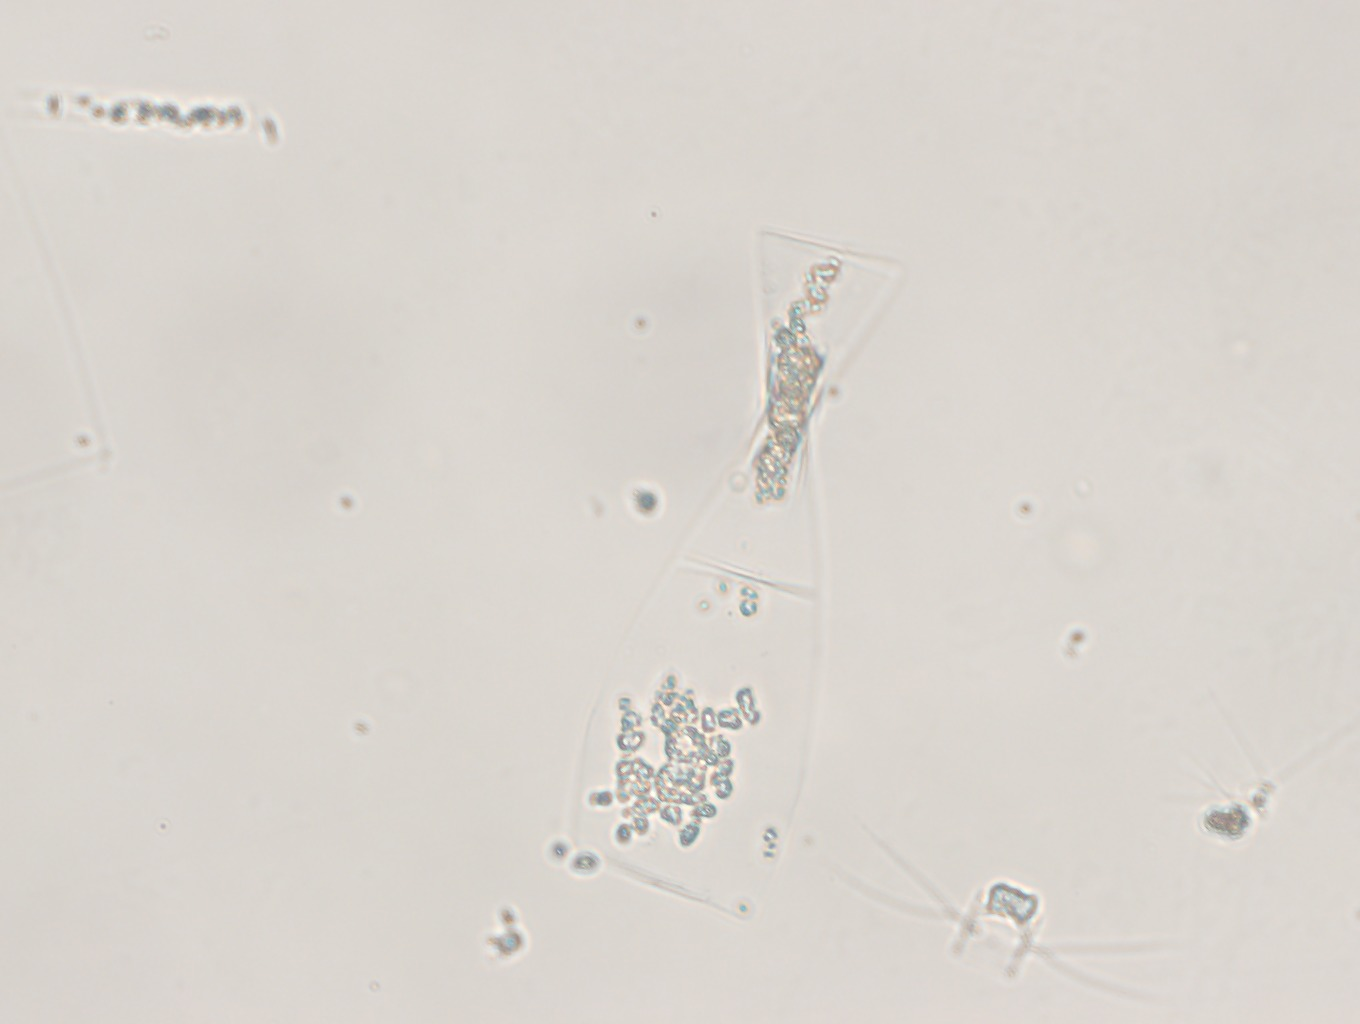chaetoceros: (838, 825, 1180, 1014)
helicotheca: (564, 229, 907, 915)
